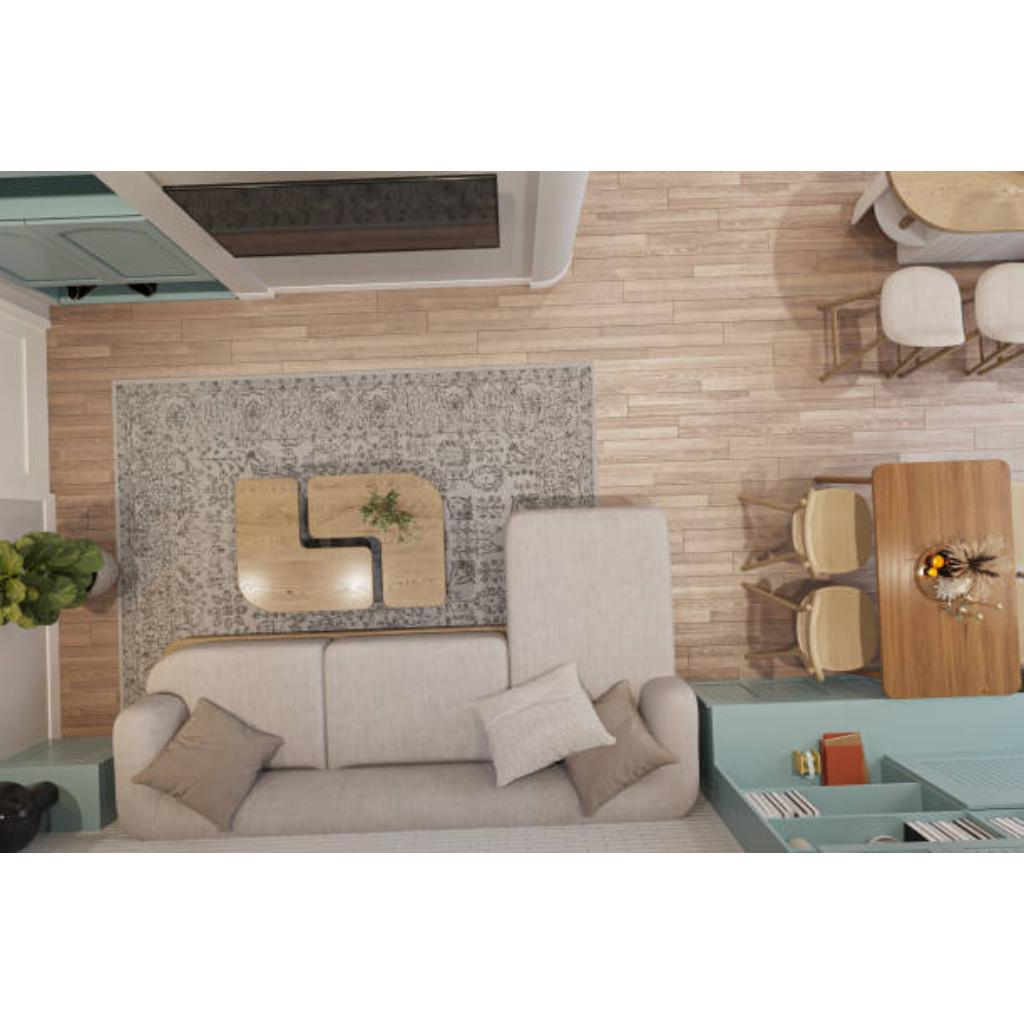TV stand: (178, 174, 536, 288)
bookshelf: (710, 700, 1020, 834)
cabinet: (0, 175, 174, 289), (2, 761, 104, 831)
chair: (738, 484, 872, 580), (743, 586, 877, 680)
chair-bed: (512, 508, 700, 834)
coffee table: (236, 474, 446, 610)
dining table: (879, 460, 1013, 696)
floor plant: (15, 532, 105, 630)
rug: (117, 368, 597, 806)
sofa: (116, 634, 508, 832)
